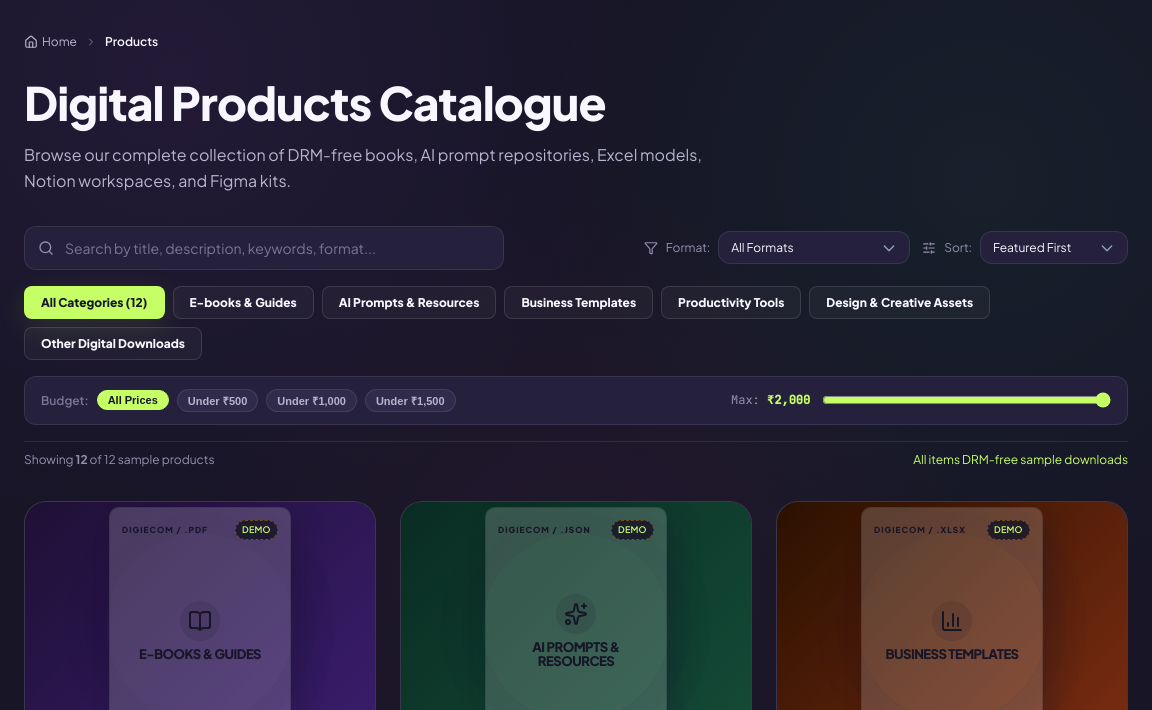
Test: Product Catalogue Filtering, Search & Sorting › shows empty state with clear reset option when search yields no matches
Type "nonexistent-crypto-token-xyz" into the search field named "Filter products by text" at x=264, y=248, box [24, 226, 504, 270]
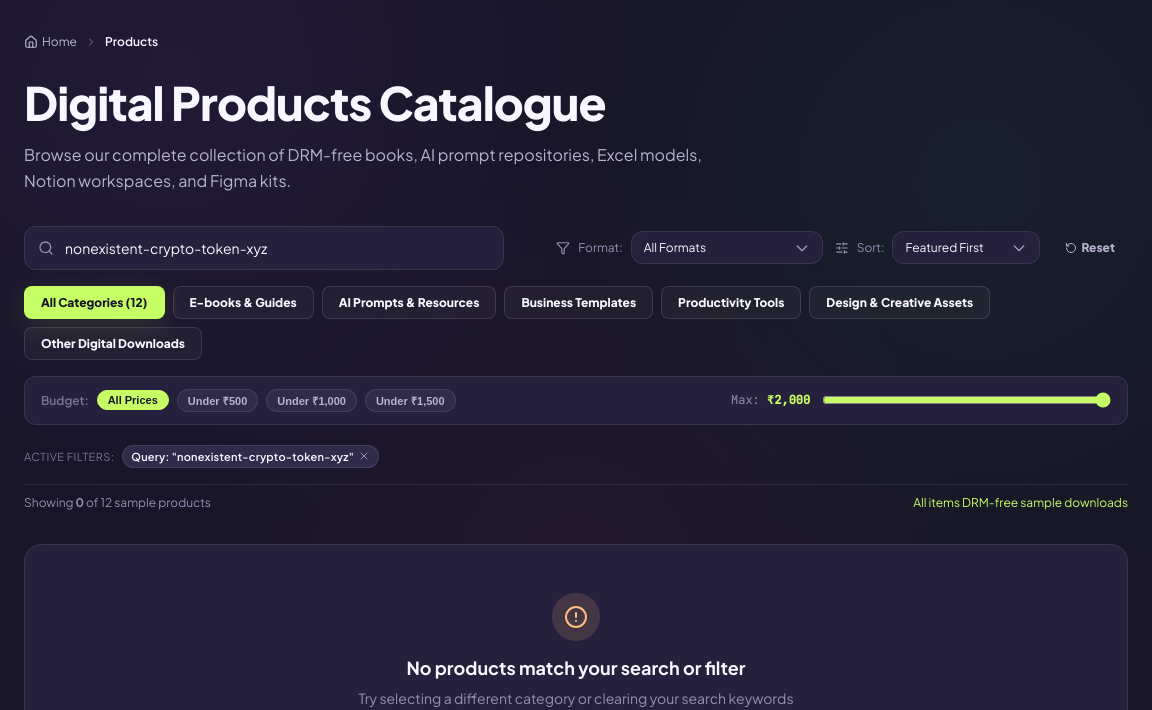
Check: the heading "No products match your search or filter" is shown, box [406, 656, 746, 679]
Check: the button "Reset" is shown
// Clicking reset restores products
Click the button "Reset" at x=1090, y=248, box [1052, 231, 1128, 264]
(page scrolled)
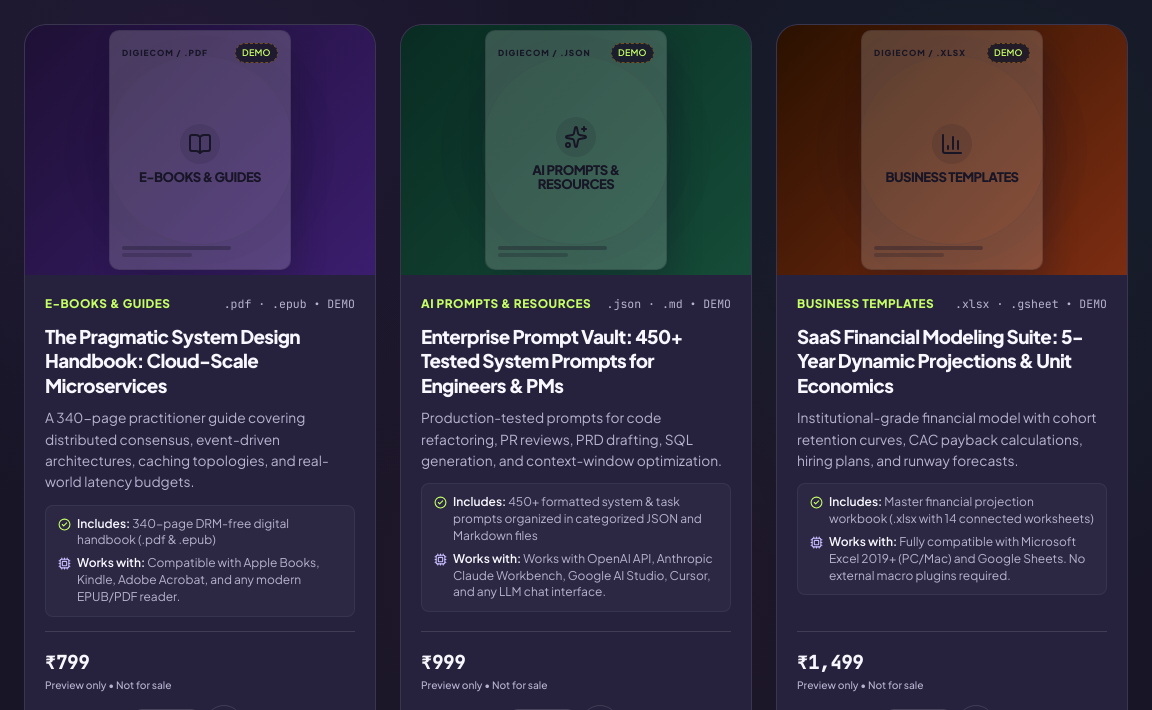
Check: the link "The Pragmatic System Design Handbook" is shown, box [45, 324, 300, 397]
